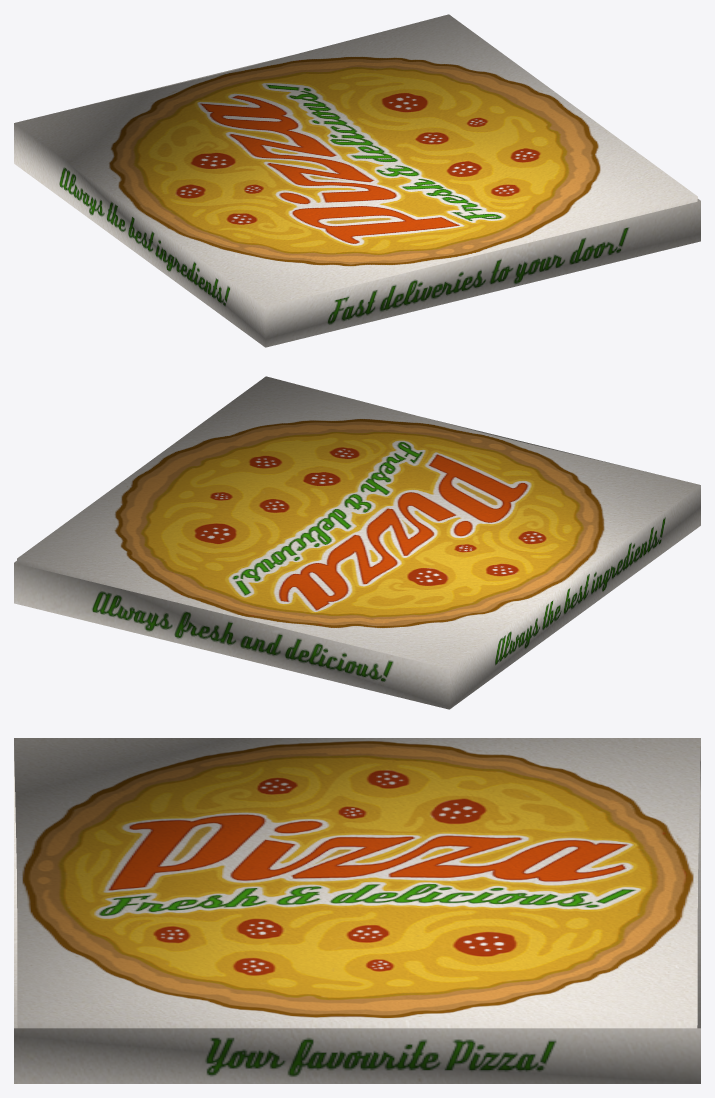
File: FFHP_MOD_Pizza_box_closed.fbx
3 renders of one model, top to bottom at view 1: azimuth 30°, elevation 25°; view 2: azimuth 150°, elevation 25°; view 3: azimuth 270°, elevation 25°, orthographic. The views are drawn at different scales.
Parts seen in each view (by area): view 1: FFHP_MOD_Pizza_box_closed; view 2: FFHP_MOD_Pizza_box_closed; view 3: FFHP_MOD_Pizza_box_closed.
Part boxes in pixels (box(x1,y1,x2,y2)): FFHP_MOD_Pizza_box_closed: box(14, 14, 700, 347); FFHP_MOD_Pizza_box_closed: box(14, 376, 700, 709); FFHP_MOD_Pizza_box_closed: box(14, 738, 700, 1083).
Size of the model in its own units: 1.68 by 0.1634 by 1.68.
